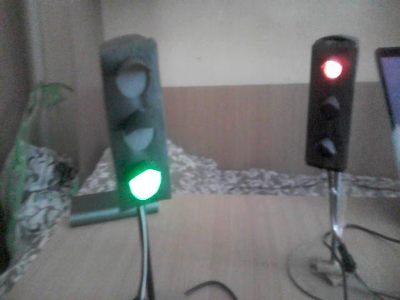trafficlight_green: (101, 48, 166, 204)
trafficlight_red: (307, 44, 355, 164)
